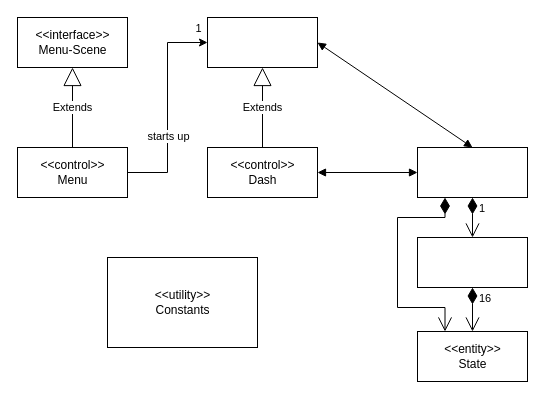
This 545x399 diagram has some shape labels left out. Each missing label, with the centre of its shape:
<<control>> Game-Management: (x=472, y=172)
<<entity>> Country: (x=472, y=262)
<<interface>> Dashboard-Scene: (x=262, y=42)
